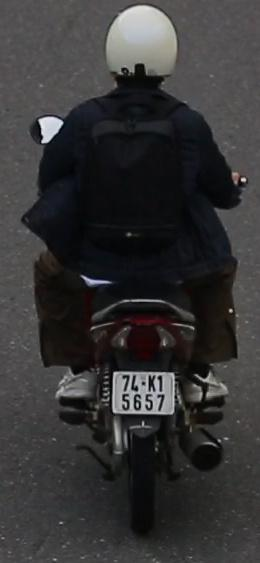LP: (109, 367, 179, 418)
helmet: (101, 0, 184, 104)
